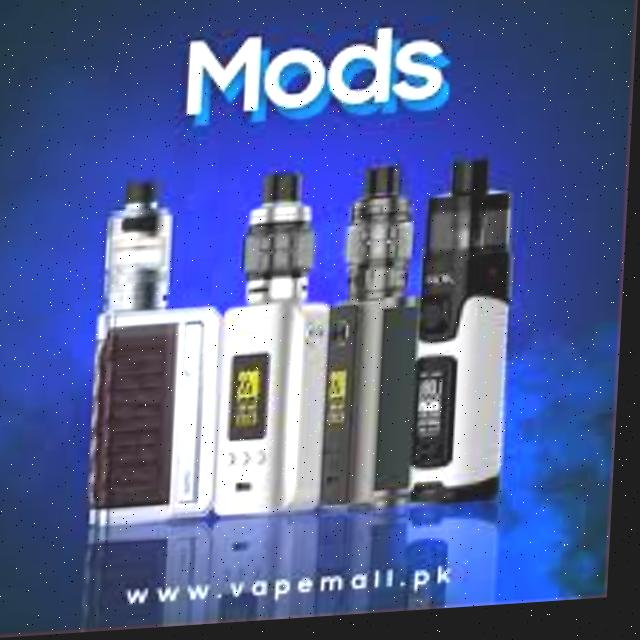vape: (92, 172, 236, 528), (223, 169, 344, 520), (413, 162, 522, 507), (327, 163, 427, 510)
